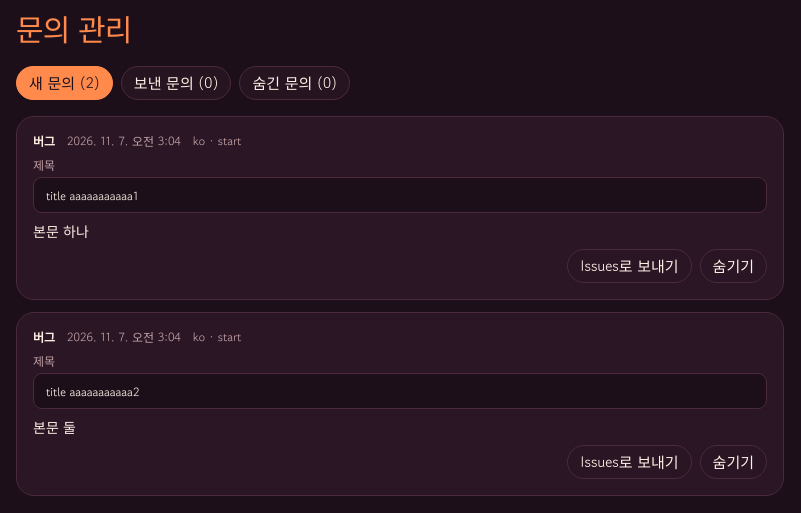
Test: send › that item's buttons are disabled while the send runs; one click sends once
Later steps or results of the test are not shown.
Expected: the text "본문 하나" is shown, [33, 221, 89, 241]
Click the 1st button "Issues로 보내기".
click(629, 266)  # box [567, 249, 692, 283]
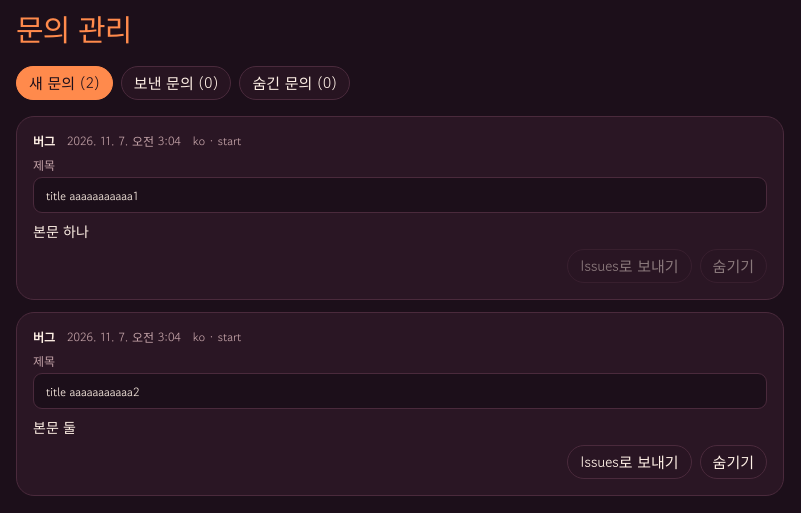
Expected: the 2nd button "Issues로 보내기" is enabled, [567, 445, 692, 479]
Now the 1st button "Issues로 보내기" is disabled, box [567, 249, 692, 283]
Now the 1st button "숨기기" is disabled, box [700, 249, 767, 283]
